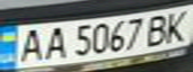0: (90, 20, 112, 55)
5: (69, 21, 93, 57)
6: (106, 18, 130, 53)
7: (124, 16, 148, 51)
A: (12, 26, 48, 63), (39, 24, 69, 61)
B: (142, 11, 175, 47)
K: (160, 7, 193, 43)
